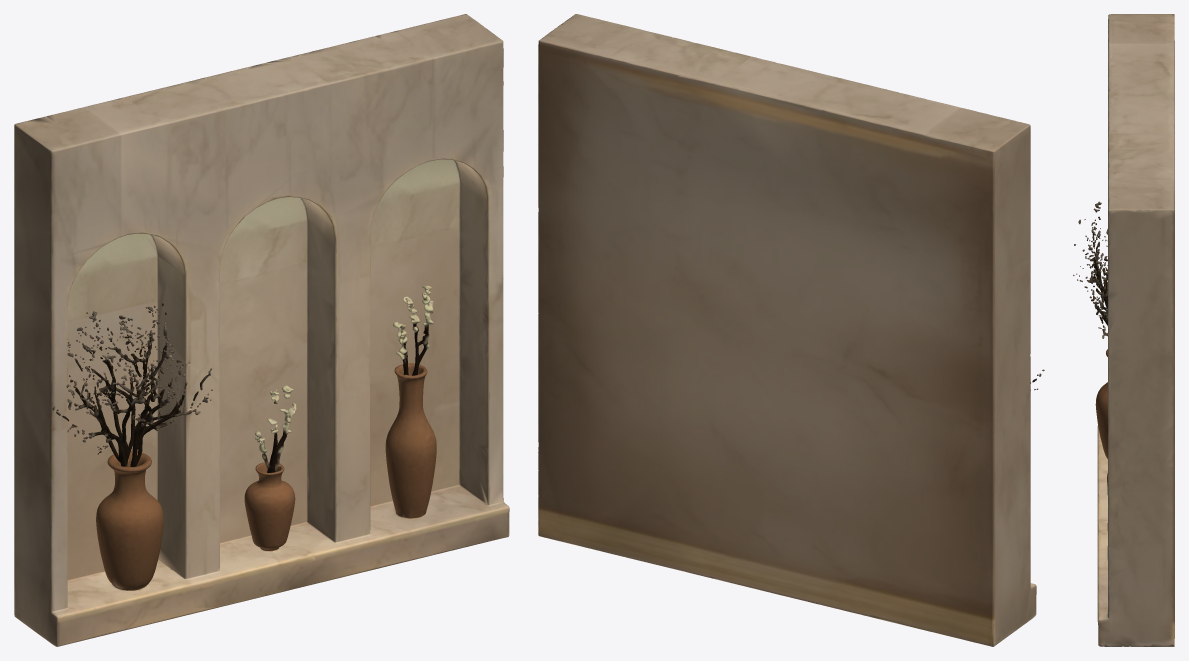
Rendered from arched-marble-shelves.glb.
3 views of the same model, side by side, from view 1: azimuth 30°, elevation 25°; view 2: azimuth 150°, elevation 25°; view 3: azimuth 270°, elevation 25° (orthographic). The views are drawn at different scales.
Parts seen in each view (by area): view 1: world; view 2: world; view 3: world.
Part boxes in pixels (<box>): world: <box>14,14,509,646</box>; world: <box>538,14,1044,646</box>; world: <box>1073,14,1174,646</box>.
Size of the model in its own units: 0.9761 by 1 by 0.2115.
1 material, 1 textured.
